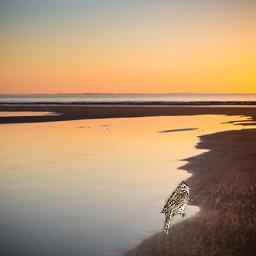Sparrow: (160, 181, 190, 236)
